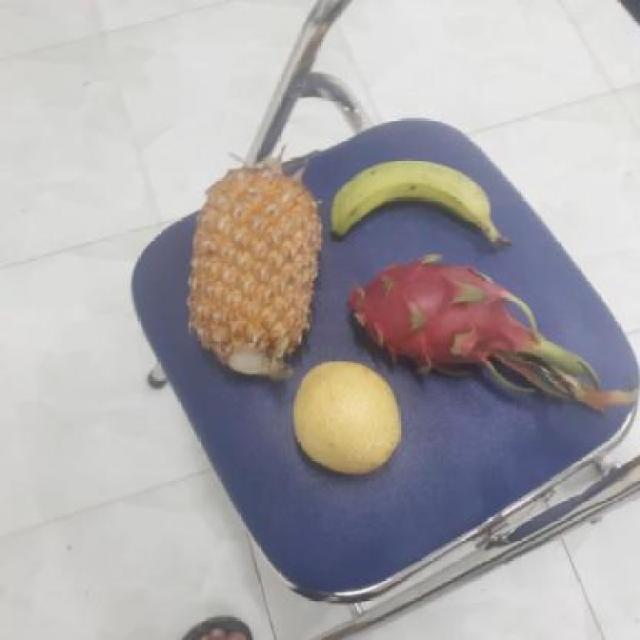banana: (328, 159, 494, 244)
dragon fruit: (341, 261, 524, 377)
pear: (285, 364, 404, 476)
pineapple: (184, 170, 324, 379)
